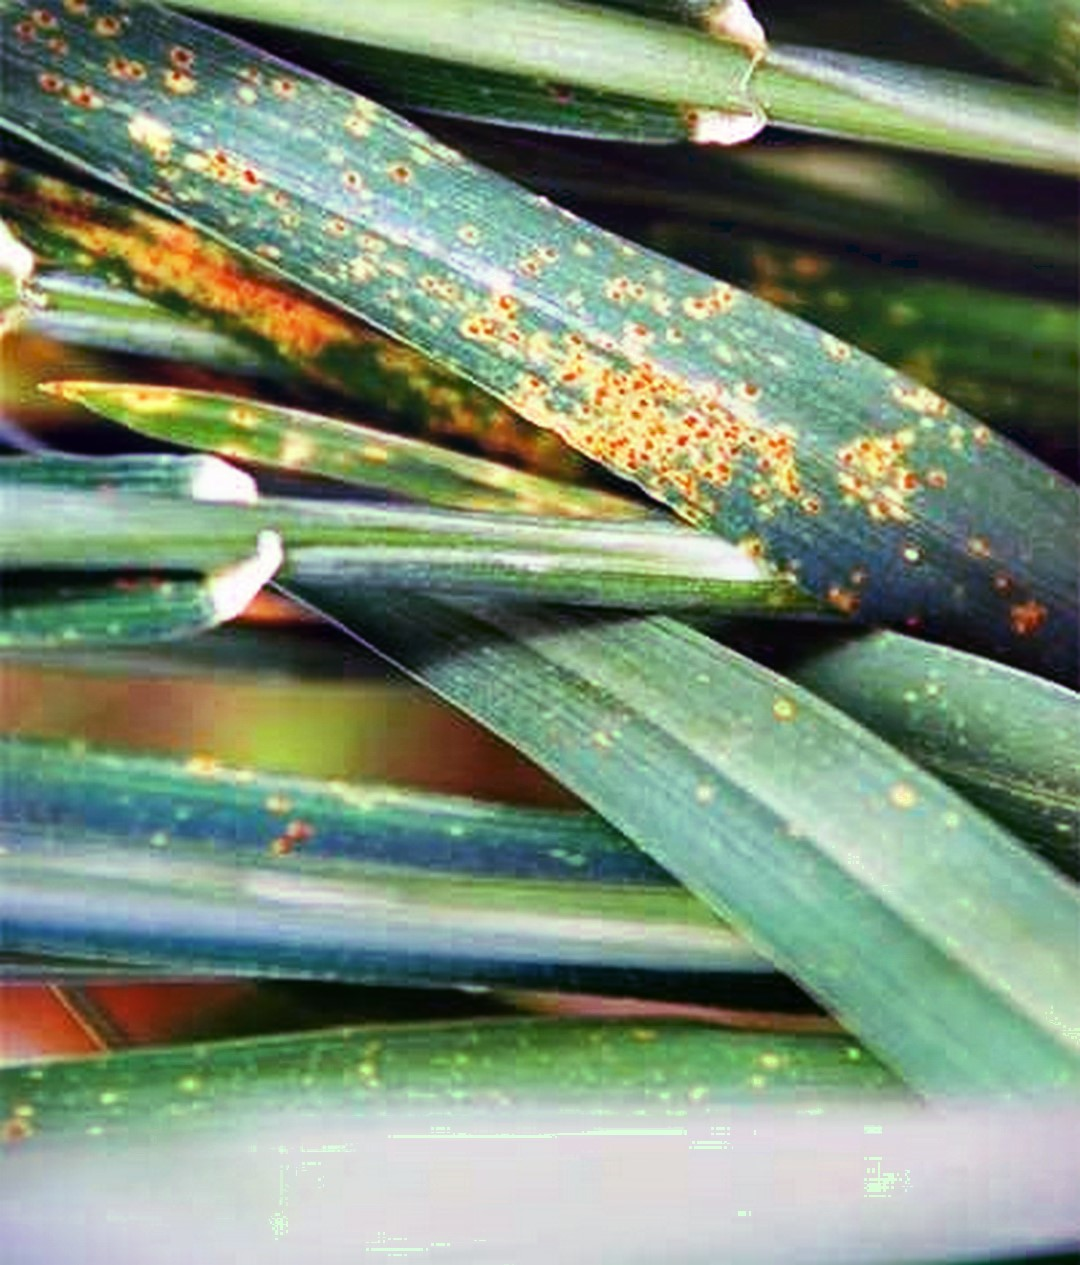Leaf Rust: (329, 152, 999, 588)
